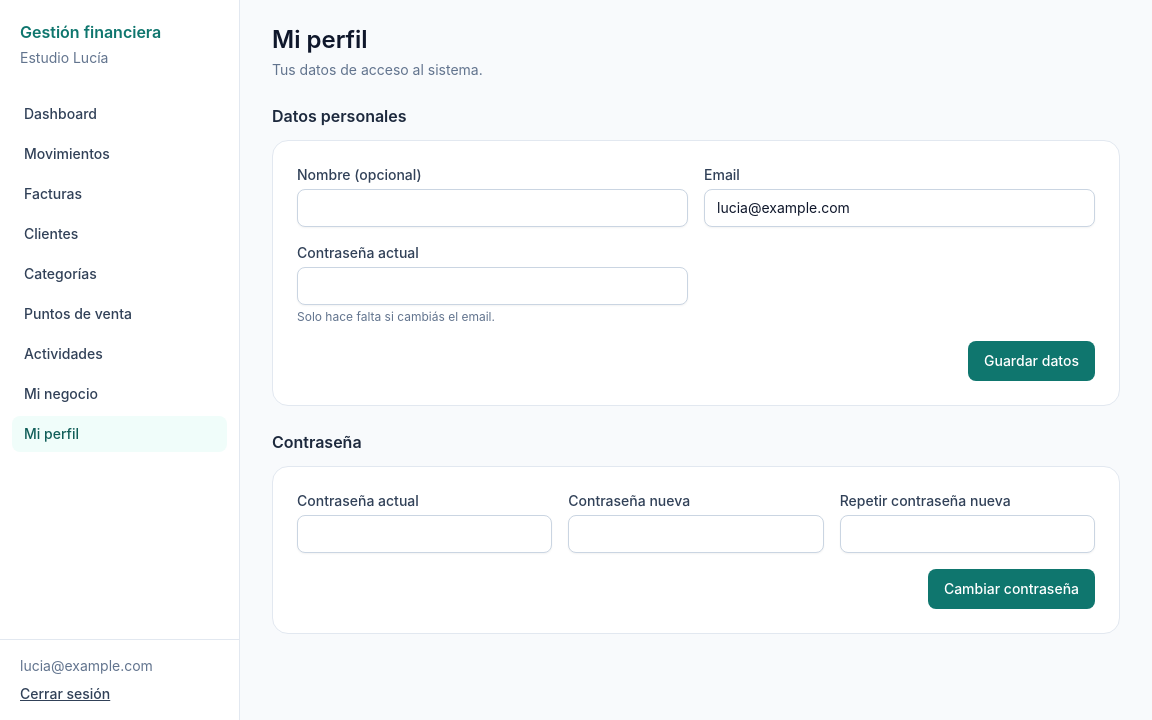
Scenario: profile › changes the email and keeps the session
Step 1. Replace the text in the field labelled "Email" with "lucia.nueva@example.com" → {"x": 900, "y": 208}, box [704,189,1095,227]
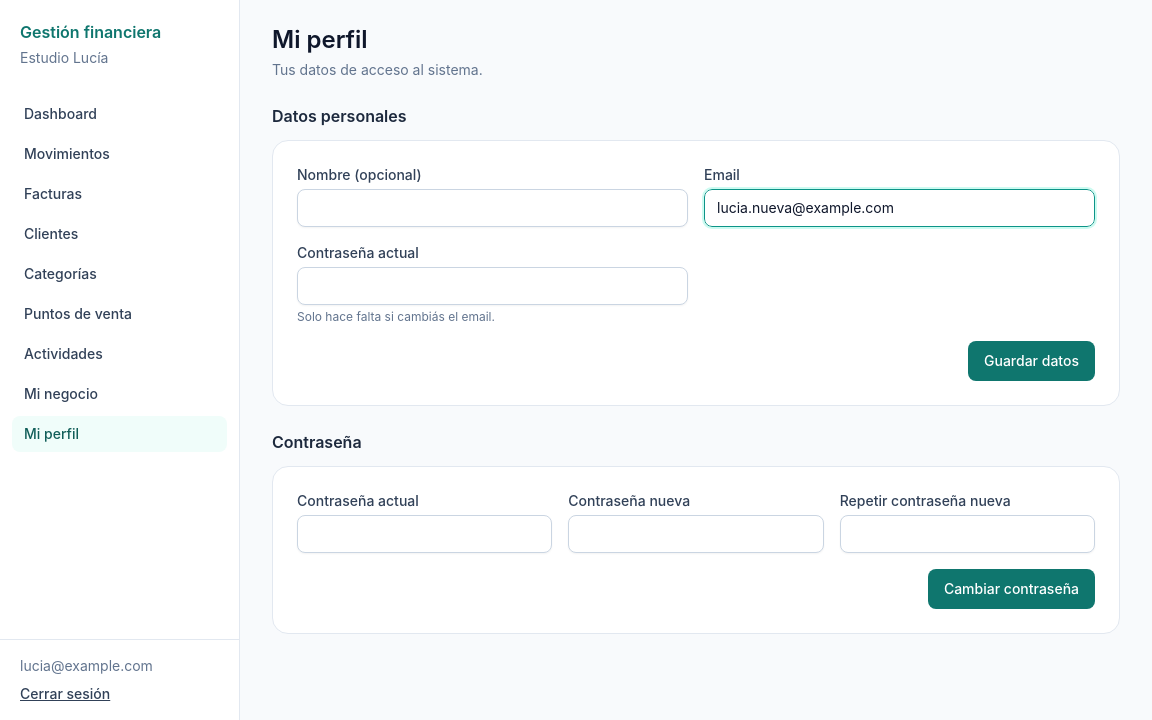
Step 2. Type "clave-segura-123" into the password field labelled "Contraseña actual" below "Nombre (opcional)" → {"x": 492, "y": 286}, box [297,267,688,305]
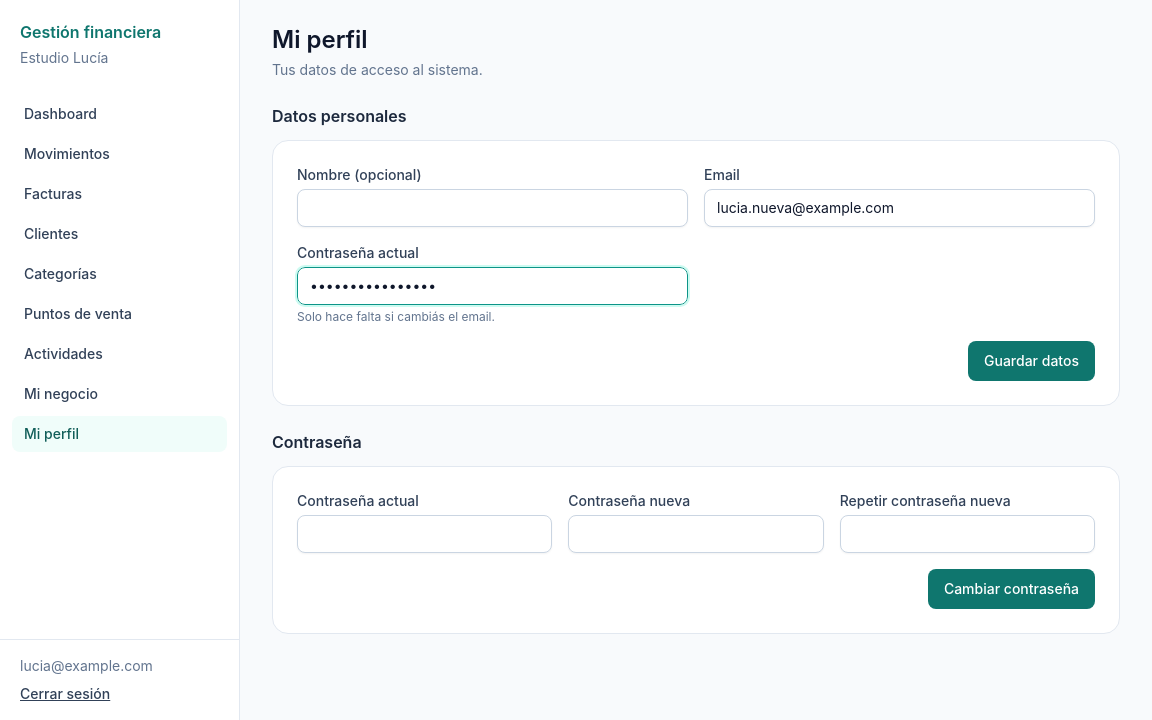
Step 3. Click the button "Guardar datos" → {"x": 1032, "y": 361}, box [968,341,1095,381]
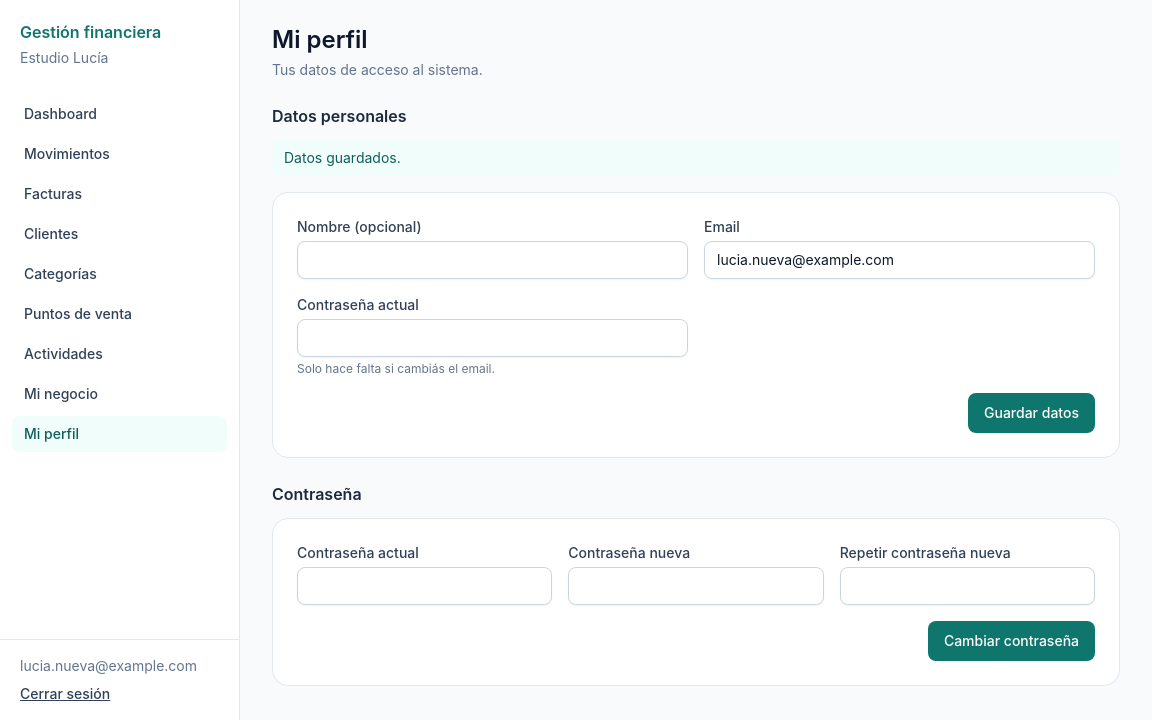
Result: the field labelled "Email" holds "lucia.nueva@example.com" at [704,241,1095,279]
Result: the text "Datos guardados." is shown at [272,140,1120,176]
Result: the text "lucia.nueva@example.com" is shown at [20,656,219,676]
